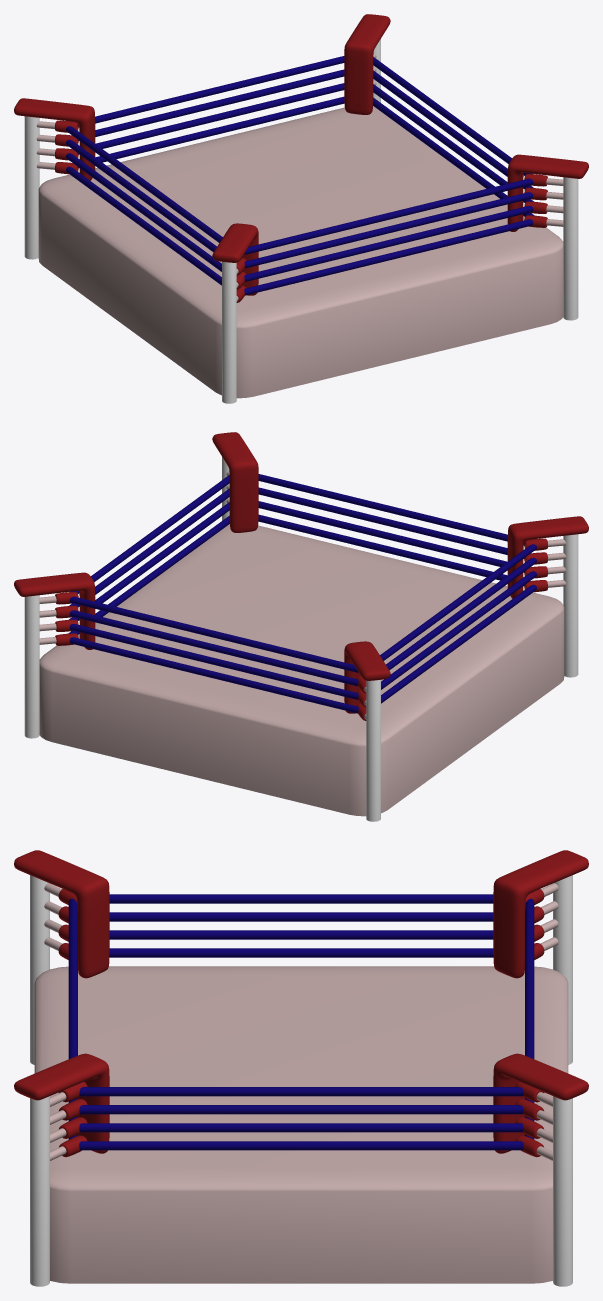
File: Arena_copy1.fbx
3 views of the same model, one above another, from view 1: azimuth 30°, elevation 25°; view 2: azimuth 150°, elevation 25°; view 3: azimuth 270°, elevation 25° (orthographic). The views are drawn at different scales.
Visible parts, largest first — view 1: RopeBig; view 2: RopeBig; view 3: RopeBig.
Boxes of the visible parts, x1,y1,x2,y2 form: RopeBig: (14, 14, 588, 403); RopeBig: (14, 432, 588, 821); RopeBig: (14, 850, 588, 1286).
Size of the model in its own units: 752 by 293 by 752.
